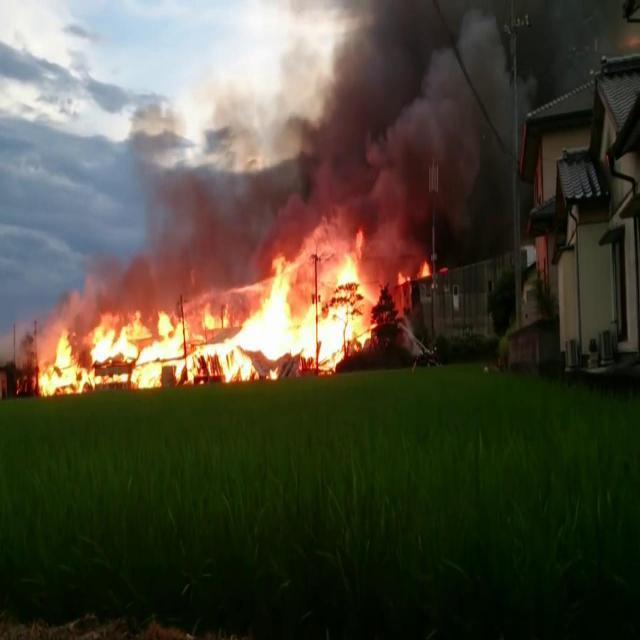Fire: (28, 234, 438, 398)
Smoke: (163, 0, 613, 218)
